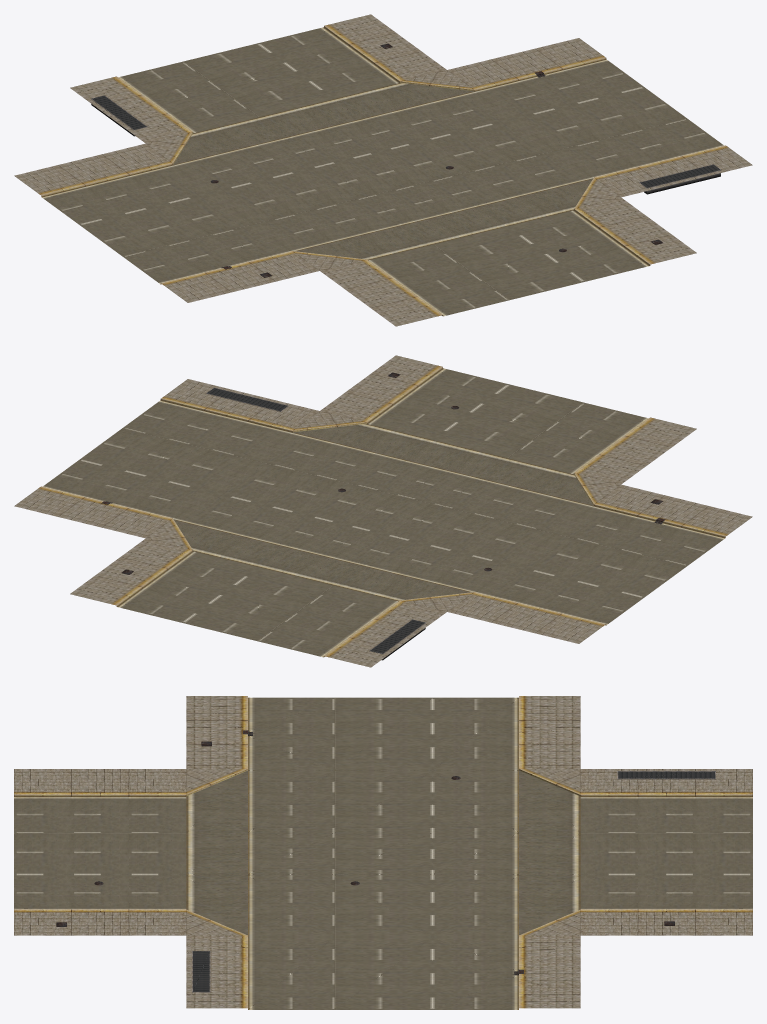
File: Road2_Part_10_B.fbx
3 views of the same model, one above another, from view 1: azimuth 30°, elevation 25°; view 2: azimuth 150°, elevation 25°; view 3: azimuth 270°, elevation 25° (orthographic). The views are drawn at different scales.
Parts seen in each view (by area): view 1: Model_Road2_Part_10_B; view 2: Model_Road2_Part_10_B; view 3: Model_Road2_Part_10_B.
Boxes of the visible parts, x1,y1,x2,y2 form: Model_Road2_Part_10_B: (14, 14, 752, 326); Model_Road2_Part_10_B: (14, 355, 752, 667); Model_Road2_Part_10_B: (14, 696, 752, 1009).
Size of the model in its own units: 6000 by 65.86 by 6000.
